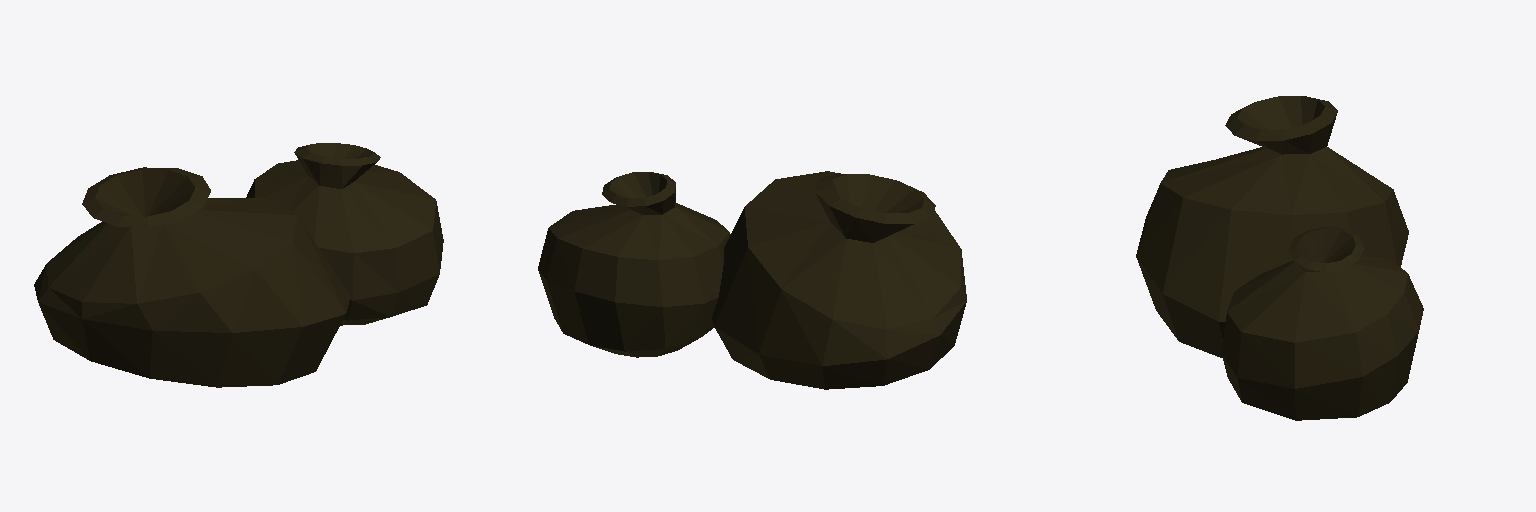
Rendered from jug_001.obj.
3 views of the same model, side by side, from view 1: azimuth 30°, elevation 25°; view 2: azimuth 150°, elevation 25°; view 3: azimuth 270°, elevation 25° (orthographic).
Visible parts, largest first — view 1: jug_001; view 2: jug_001; view 3: jug_001.
Boxes of the visible parts, <box> form: jug_001: <box>34,143,443,387</box>; jug_001: <box>538,171,966,389</box>; jug_001: <box>1136,96,1423,420</box>.
Bounding box in the file's own units: 0.7318 × 0.3407 × 0.4675.